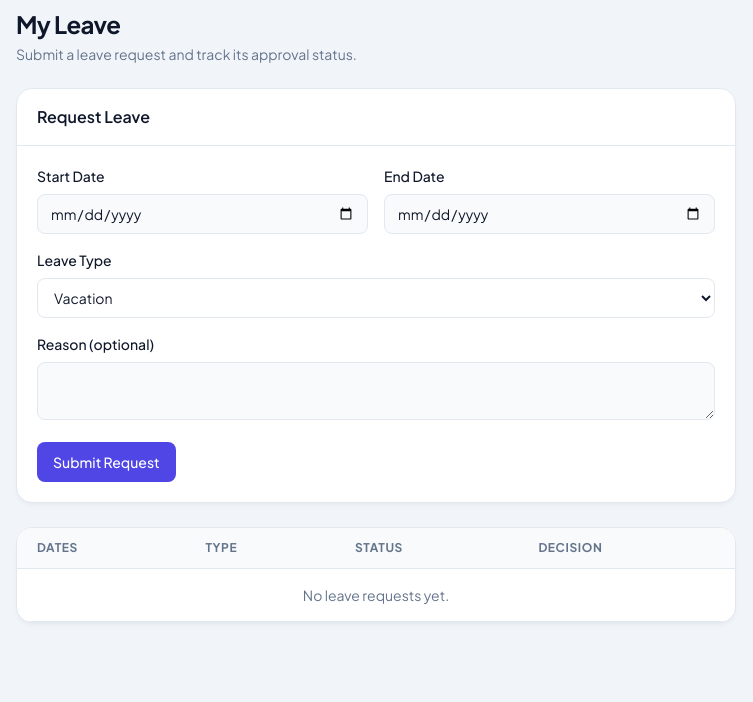
MyLeavePage › shows a validation error from the server
The width and height of the screenshot is (753, 702).
Expected: the text "No leave requests yet." is shown, left=17, top=568, right=735, bottom=622
Type "2026-09-05" into the date field labelled "Start Date".
click(202, 214); type("2026-09-05")  # box left=37, top=194, right=368, bottom=234
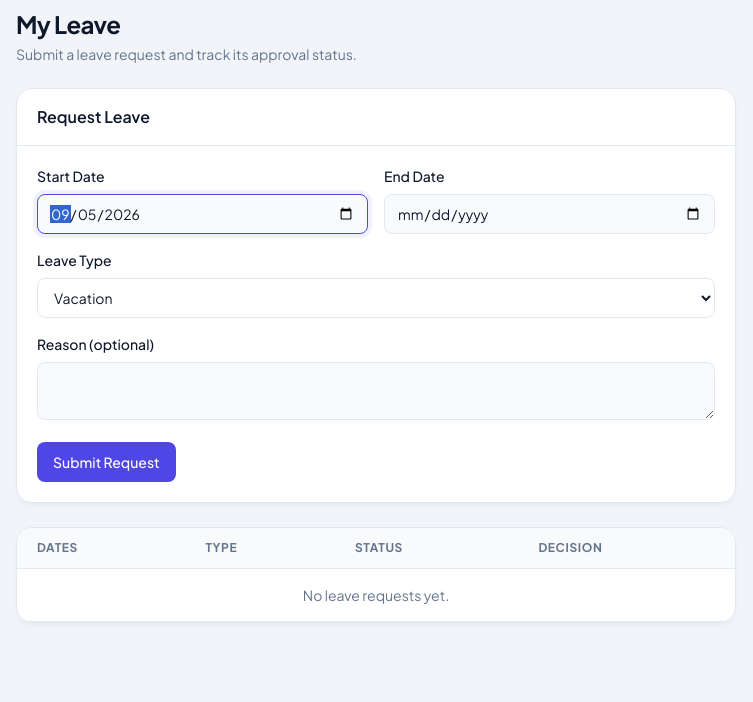
Type "2026-09-01" into the date field labelled "End Date".
click(550, 214); type("2026-09-01")  # box left=384, top=194, right=715, bottom=234
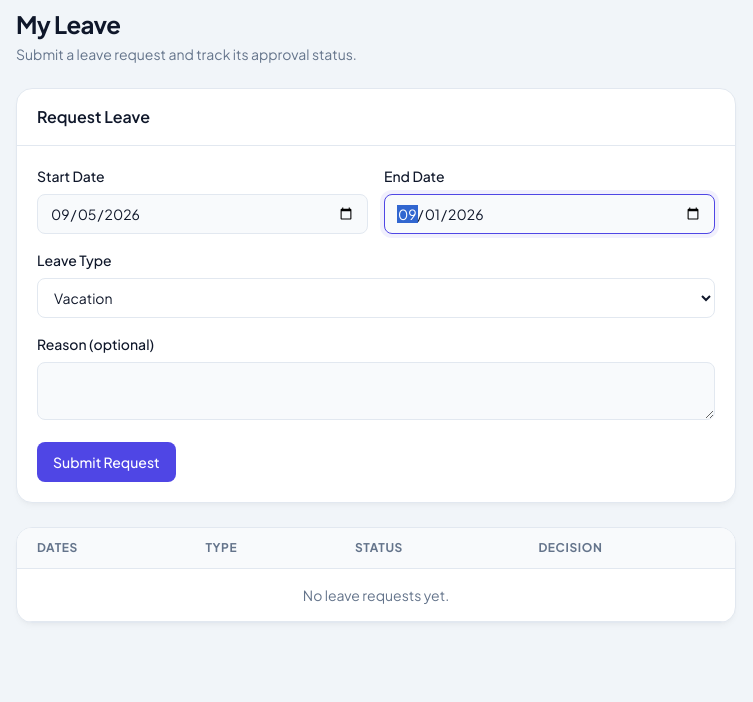
Click the button "Submit Request".
click(106, 462)  # box left=37, top=442, right=176, bottom=482
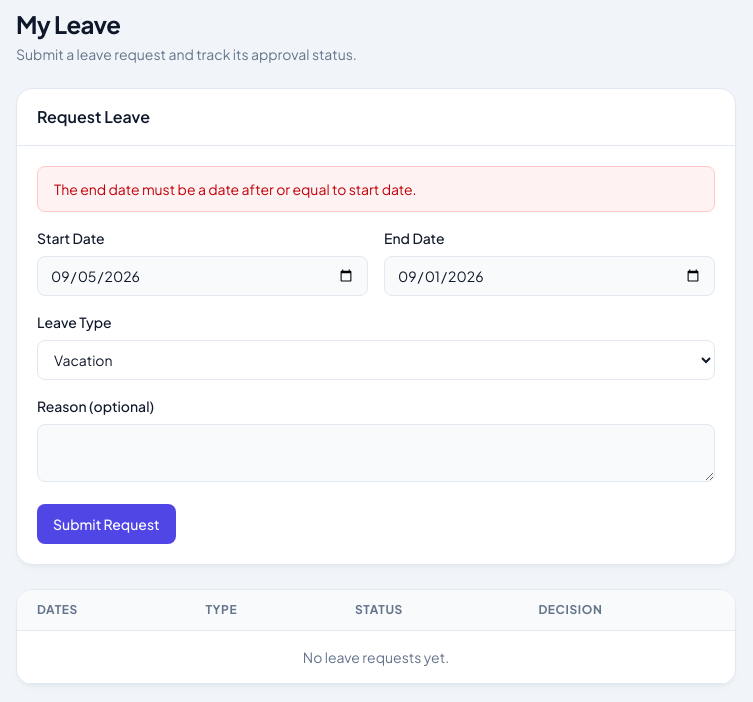
Expected: the text "The end date must be a date after or equal to start date." is shown, left=37, top=166, right=715, bottom=212
